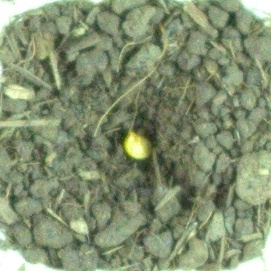chilli seed: (122, 127, 156, 161)
